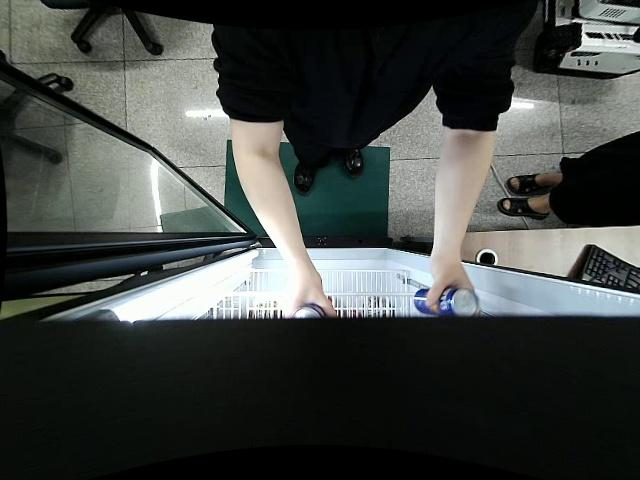00_hand: (277, 267, 339, 319), (425, 257, 477, 305)
16_hot6: (412, 286, 479, 317)
